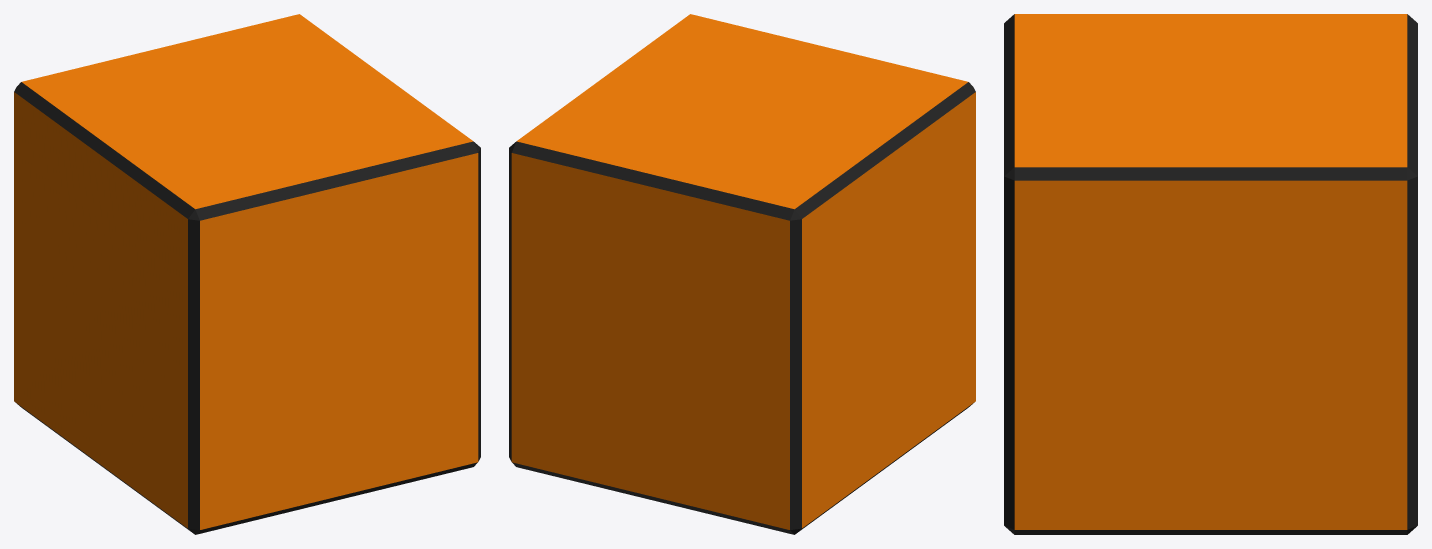
File: pickup_box.obj
The picture shows the model from 3 angles, left to right: view 1: azimuth 30°, elevation 25°; view 2: azimuth 150°, elevation 25°; view 3: azimuth 270°, elevation 25°; orthographic projection. The views are drawn at different scales.
Visible parts, largest first — view 1: cube1; view 2: cube1; view 3: cube1.
Part boxes in pixels (left/top/right/bottom): cube1: left=14, top=14, right=480, bottom=534; cube1: left=509, top=14, right=975, bottom=534; cube1: left=1004, top=14, right=1417, bottom=534.
Size of the model in its own units: 17.5 by 18.59 by 18.95.
Materials: 2 (2 with a texture image).
